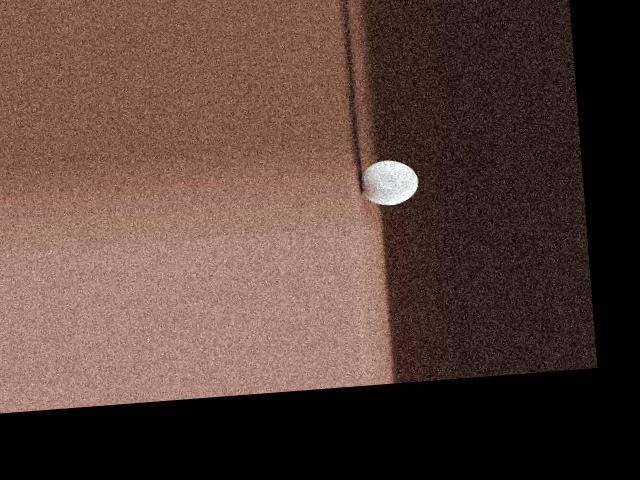egg: (359, 158, 420, 206)
